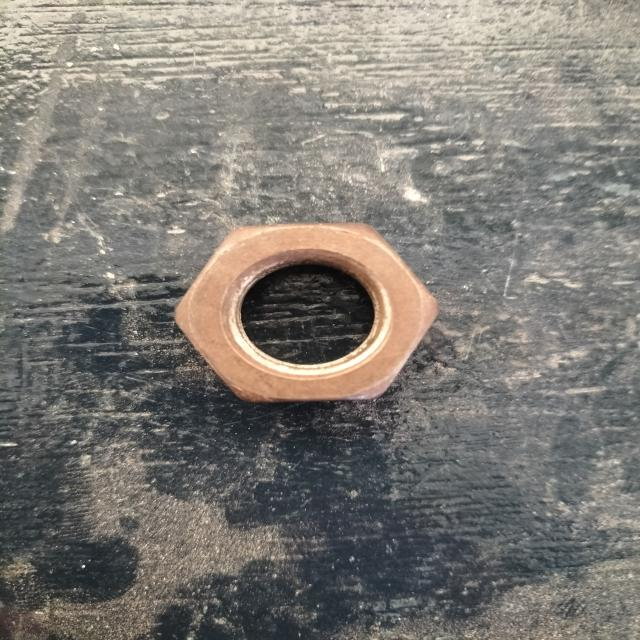nuts: (177, 224, 436, 402)
